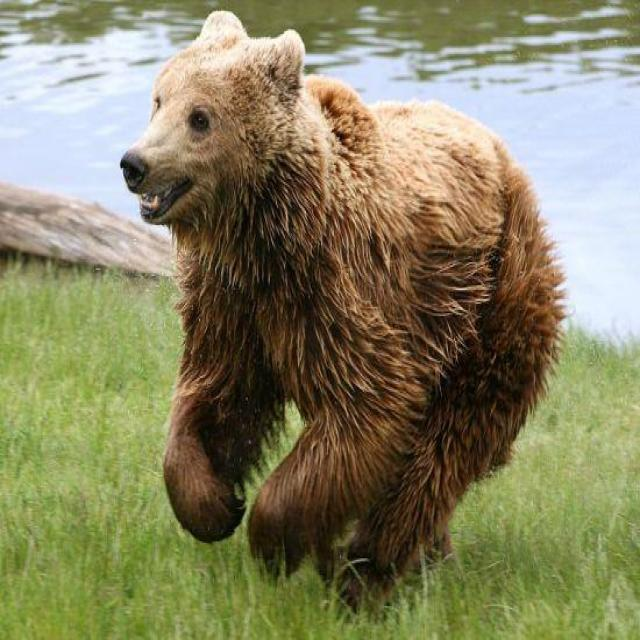Bear: (120, 9, 570, 611)
